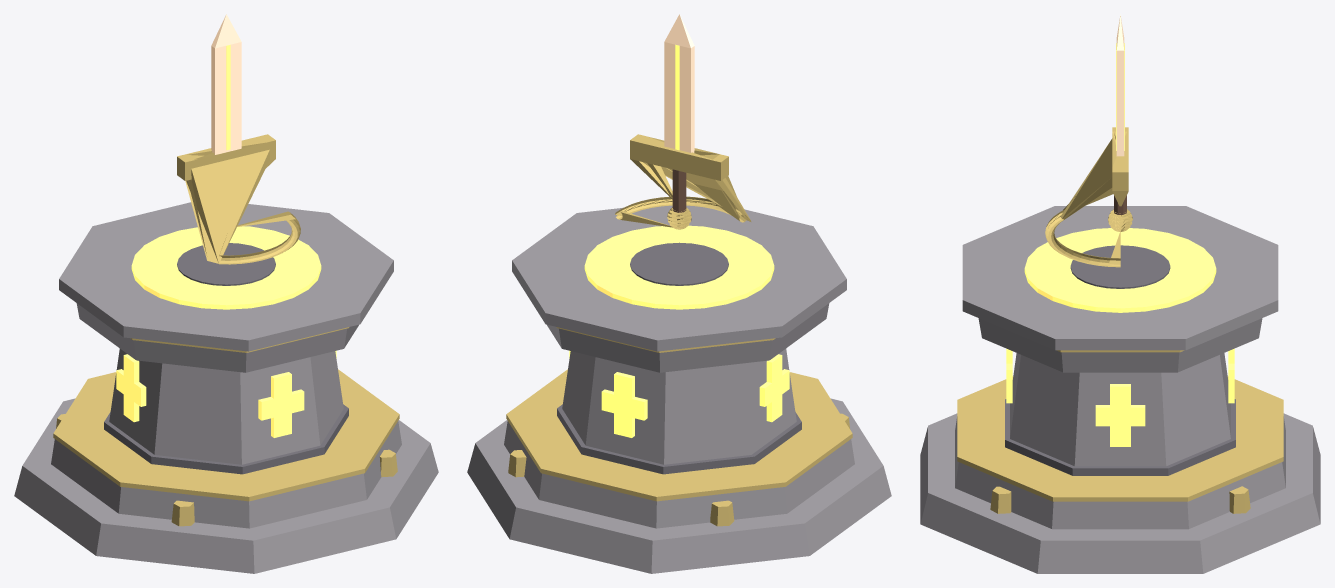
File: pedestal_attack.glb
The picture shows the model from 3 angles, left to right: view 1: azimuth 30°, elevation 25°; view 2: azimuth 150°, elevation 25°; view 3: azimuth 270°, elevation 25°; orthographic projection.
Parts seen in each view (by area): view 1: Pedestal, Emblem; view 2: Pedestal, Emblem; view 3: Pedestal, Emblem.
Part boxes in pixels (x1,y1,x2,y2): Pedestal: [14, 202, 438, 573]; Emblem: [177, 14, 300, 264]; Pedestal: [467, 205, 891, 573]; Emblem: [615, 14, 751, 229]; Pedestal: [920, 206, 1320, 573]; Emblem: [1045, 14, 1132, 267].
Size of the model in its own units: 0.9608 by 1.26 by 0.9608.
